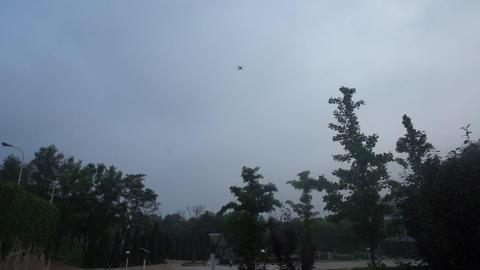UAV: (236, 65, 244, 71)
